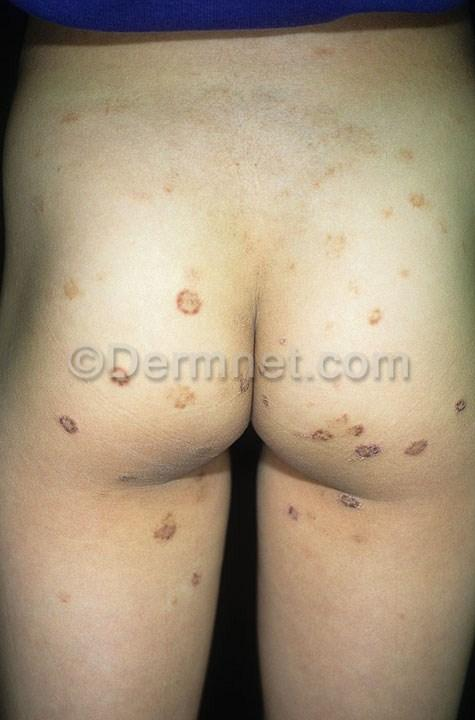Eczema: (133, 503, 193, 551), (156, 283, 219, 323), (308, 405, 349, 452), (313, 232, 361, 268), (55, 273, 93, 318), (279, 495, 317, 535), (48, 409, 89, 445), (351, 439, 391, 475), (399, 435, 438, 467), (332, 495, 375, 523), (163, 389, 206, 417), (405, 187, 436, 219), (183, 566, 212, 598), (366, 303, 399, 328), (49, 586, 79, 613), (452, 395, 475, 428), (341, 417, 372, 439), (388, 263, 417, 284)
